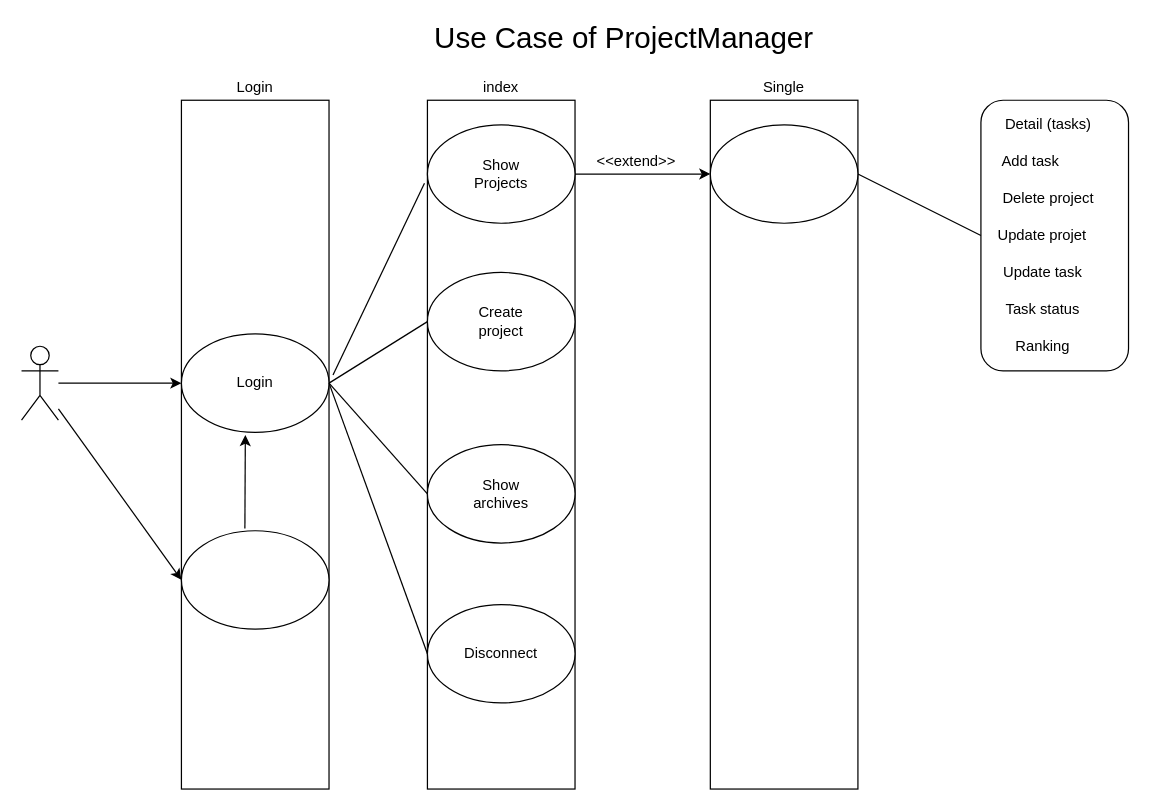
Some shapes in this 1150 by 811 pixel diagram are drawn without their labels. The centre of each missing label's shape, as x and y in pixels:
Create Account: point (254, 579)
Single project: point (783, 173)
User: point (39, 382)
